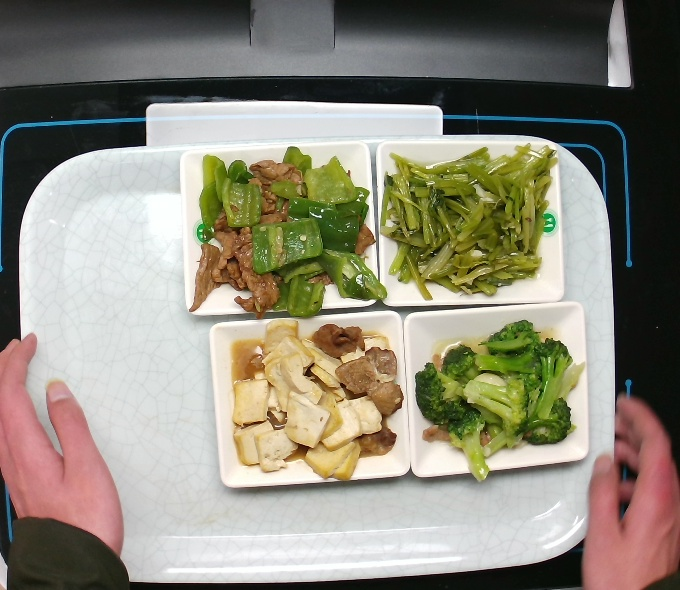wcq-DouFuRouPian: (211, 313, 405, 488)
wcq-QinCai: (369, 131, 567, 303)
wcq-QingJiaoChaoRou: (191, 157, 390, 310)
wcq-XiLanHua: (405, 317, 586, 488)
